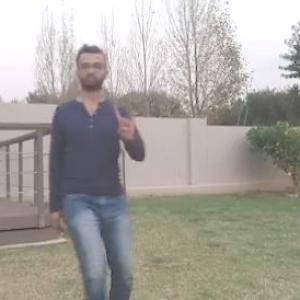takeoff-hand: (112, 96, 146, 136)
